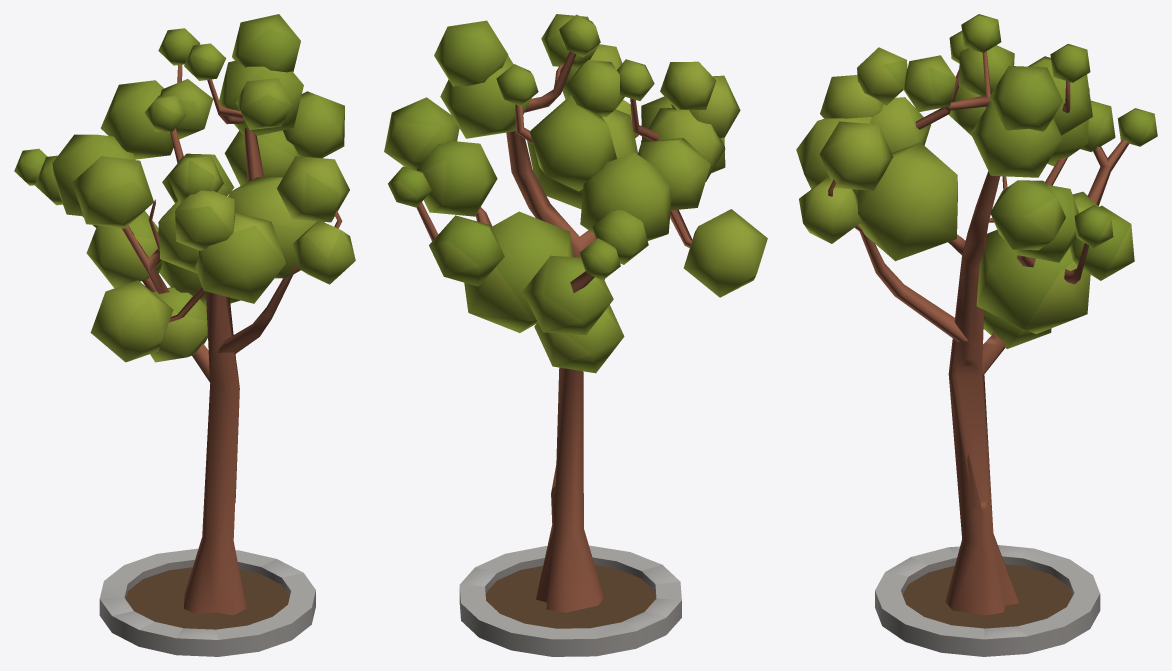
Rendered from Arbol1.fbx.
3 renders of one model, left to right at view 1: azimuth 30°, elevation 25°; view 2: azimuth 150°, elevation 25°; view 3: azimuth 270°, elevation 25°, orthographic. The views are drawn at different scales.
Visible parts, largest first — view 1: Tree_6A.010; view 2: Tree_6A.010; view 3: Tree_6A.010.
Part boxes in pixels (x1,y1,x2,y2): Tree_6A.010: [14, 14, 355, 656]; Tree_6A.010: [384, 14, 767, 656]; Tree_6A.010: [796, 14, 1157, 656].
Size of the model in its own units: 778 by 1400 by 774.
2 materials, 2 textured.
